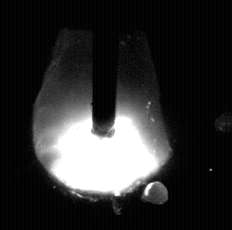arame: (93, 0, 118, 138)
poca: (32, 0, 169, 230)
